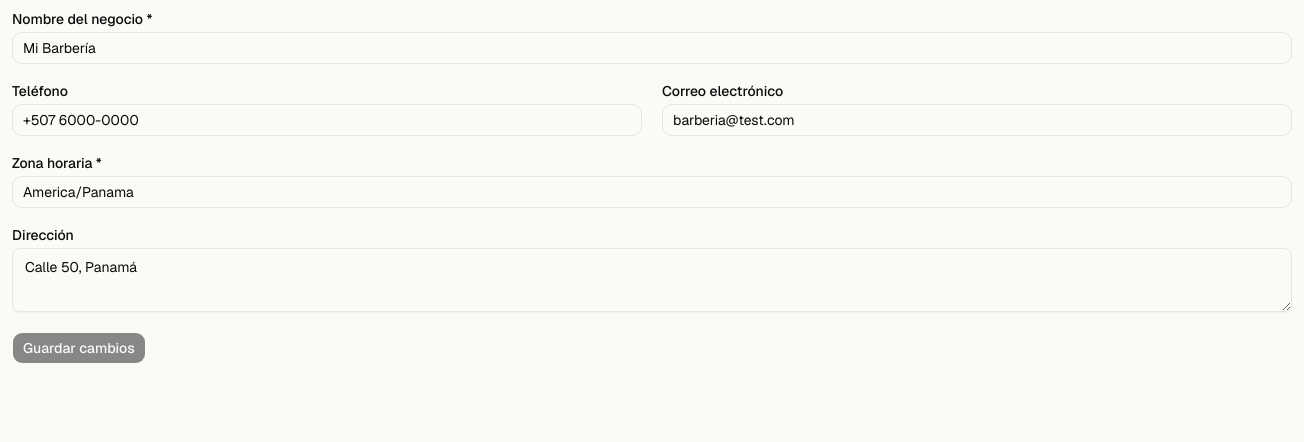
Test: EditBusinessForm — submit exitoso › muestra mensaje de éxito tras guardar
Replace the text in the field labelled "Nombre del negocio *" with "Nueva Barbería": (652, 48) [12, 32, 1292, 64]
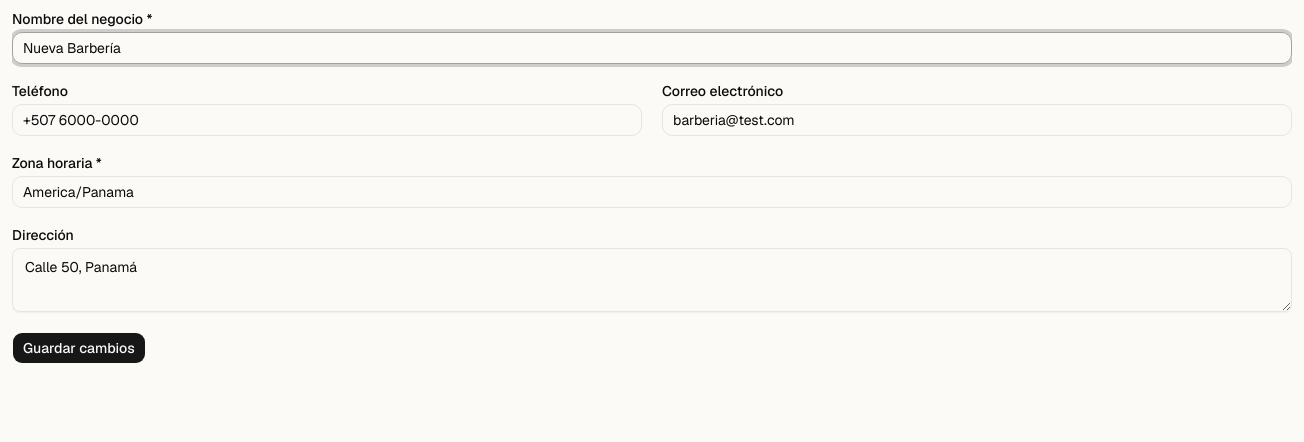
Click the button "Guardar cambios": (79, 348) [12, 332, 146, 364]
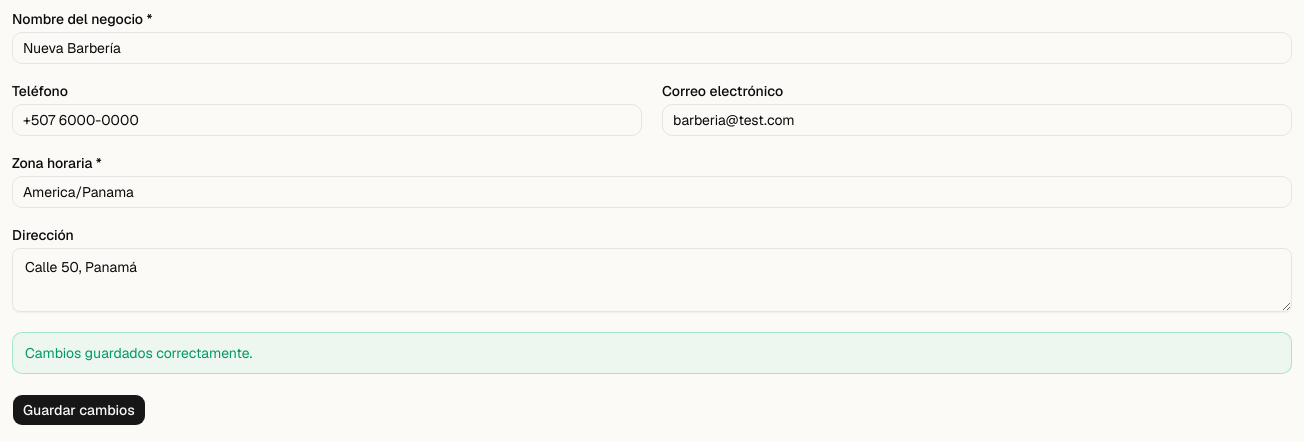
Expected: the text "Cambios guardados correctamente." is shown, [25, 344, 252, 362]
